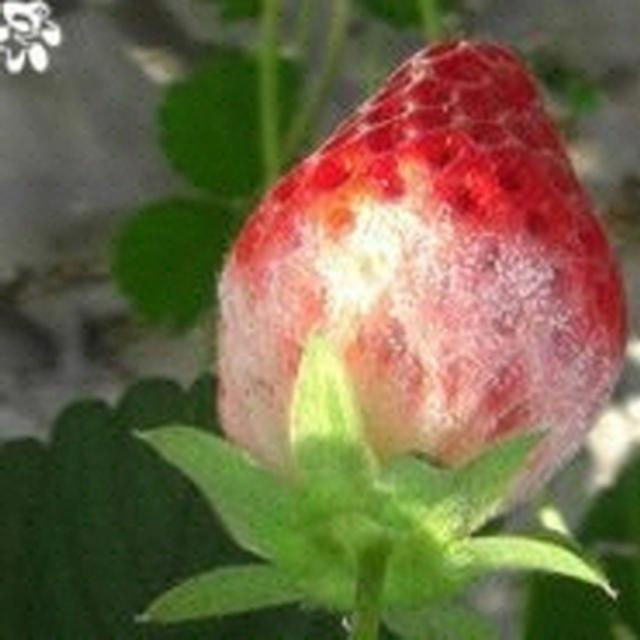Powdery Mildew Fruit: (211, 156, 629, 541)
